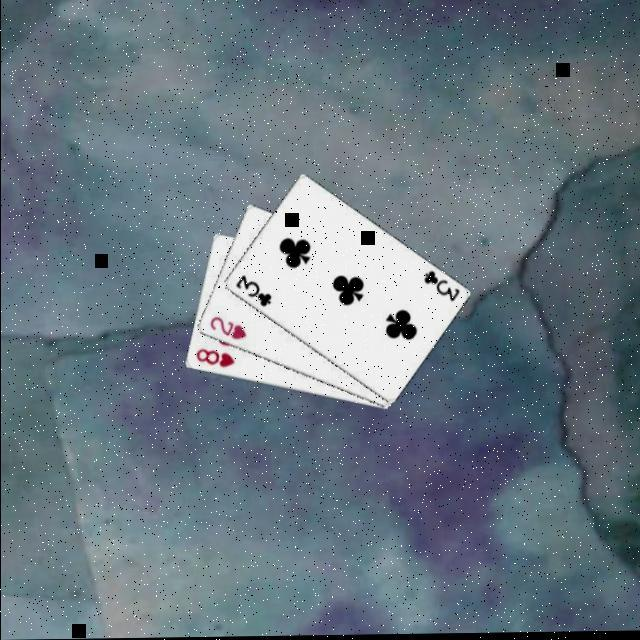2H: (208, 312, 250, 342)
3C: (232, 272, 274, 310), (421, 268, 463, 304)
8H: (194, 345, 238, 371)
